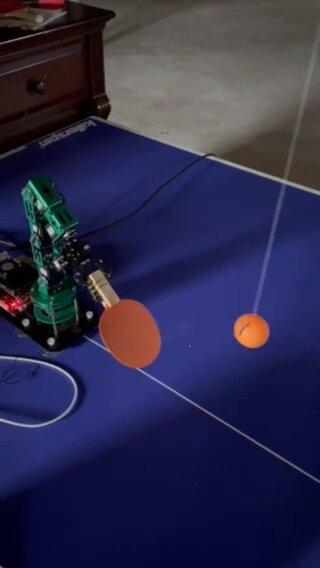oball: (233, 316, 271, 349)
